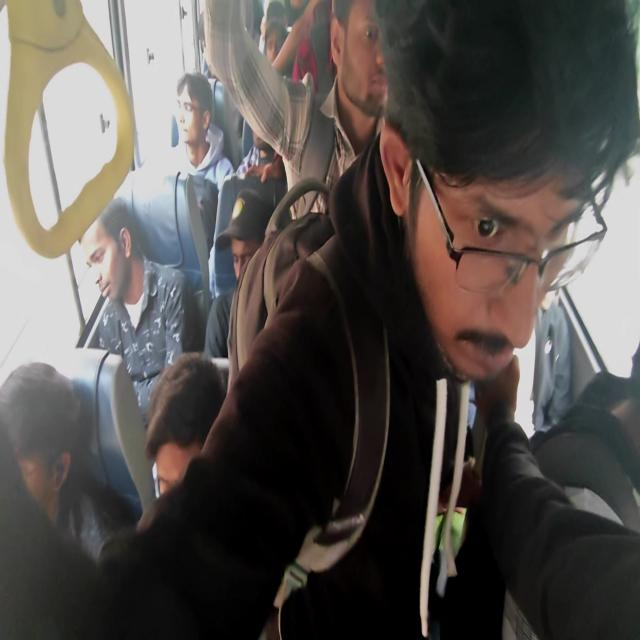person: (392, 7, 588, 366), (150, 386, 234, 548), (0, 382, 77, 538), (328, 2, 397, 130), (88, 206, 138, 307), (222, 215, 268, 313), (178, 80, 215, 174), (196, 9, 224, 78), (262, 25, 294, 80), (244, 116, 271, 179)
